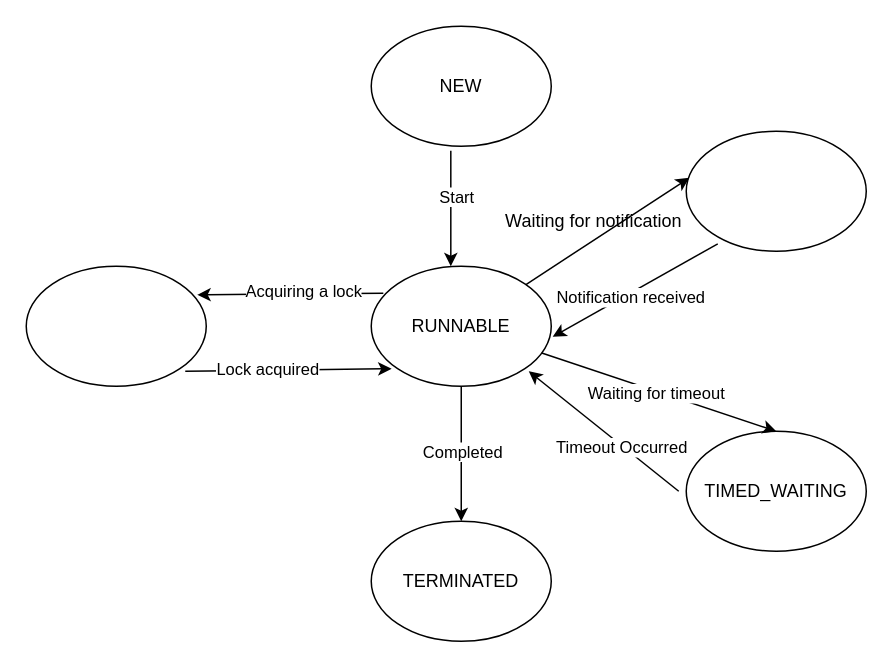
This 893x668 diagram has some shape labels left out. Each missing label, with the centre of its shape:
BLOCKED: the point at 115,325
WAITING: the point at 775,190
